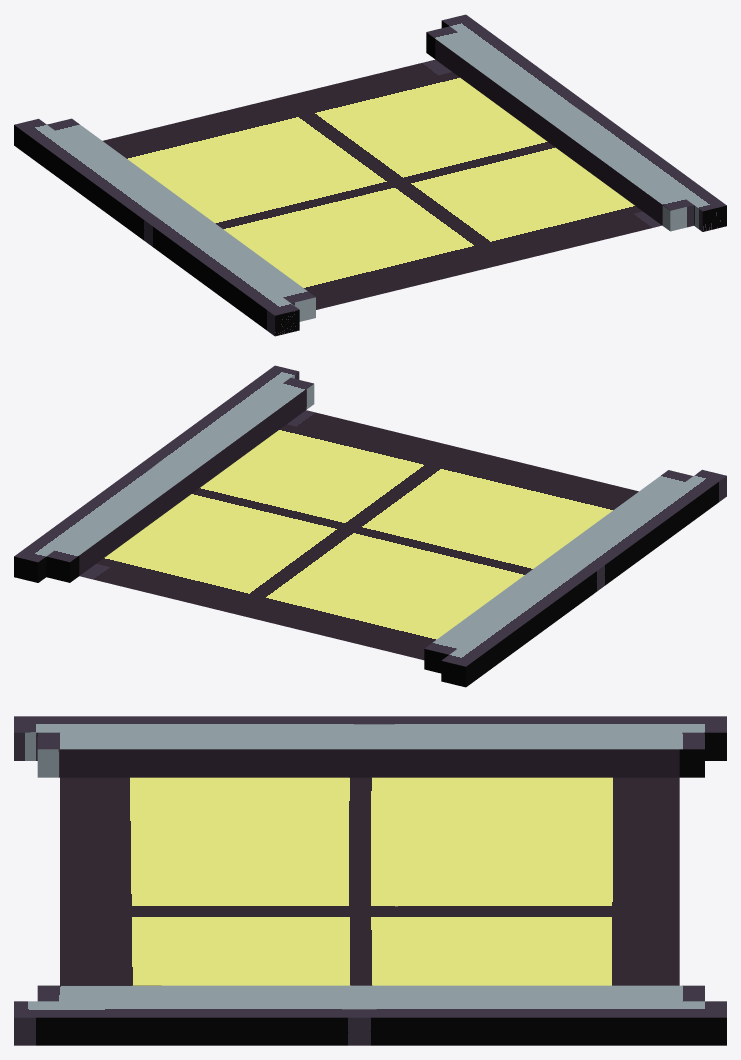
File: windos.glb
3 views of the same model, one above another, from view 1: azimuth 30°, elevation 25°; view 2: azimuth 150°, elevation 25°; view 3: azimuth 270°, elevation 25° (orthographic). The views are drawn at different scales.
Visible parts, largest first — view 1: 平面.001; view 2: 平面.001; view 3: 平面.001.
Part boxes in pixels (left/top/right/bottom): 平面.001: left=14, top=14, right=726, bottom=336; 平面.001: left=14, top=365, right=726, bottom=687; 平面.001: left=14, top=716, right=726, bottom=1045.
Bounding box in the file's own units: 1 × 0.0438 × 1.
Materials: 1 (1 with a texture image).
